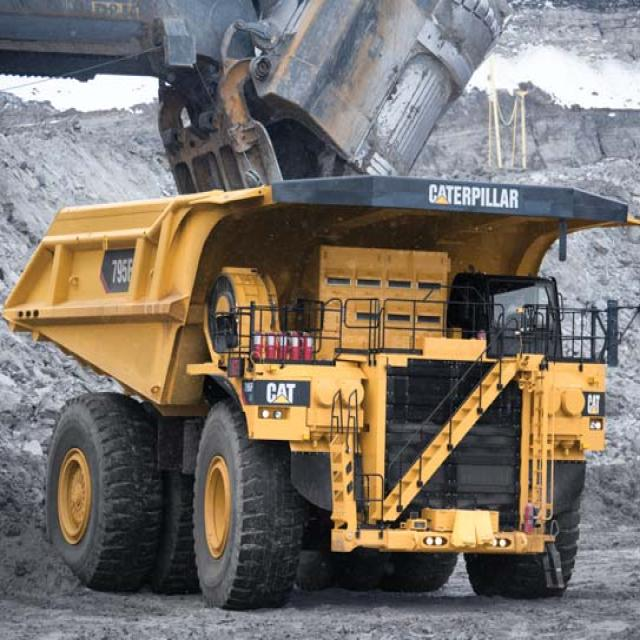dump_truck: (9, 169, 636, 602)
